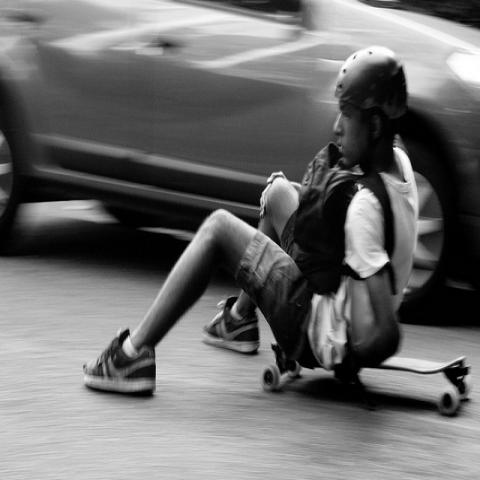car: (0, 0, 480, 319)
